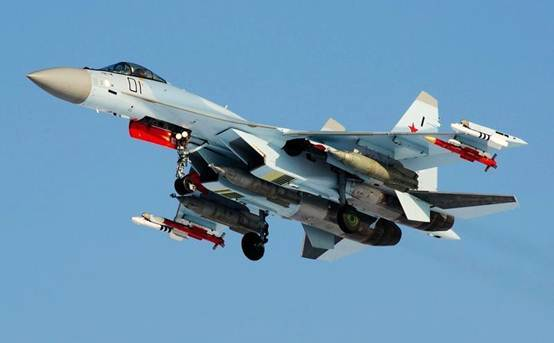airplane: (22, 47, 532, 259)
